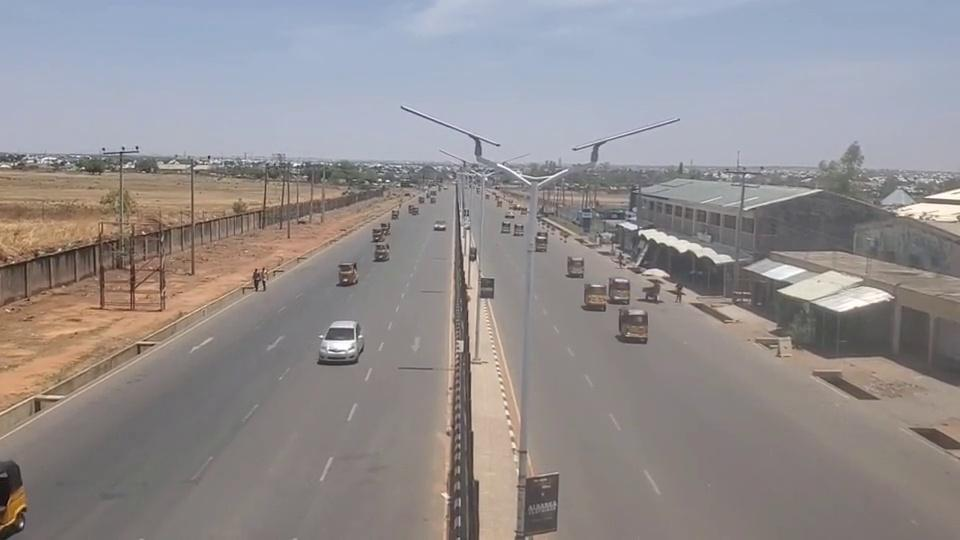keke: (0, 459, 27, 538), (618, 307, 648, 342), (583, 282, 607, 310), (607, 275, 630, 303), (337, 261, 358, 285), (566, 255, 584, 277)
